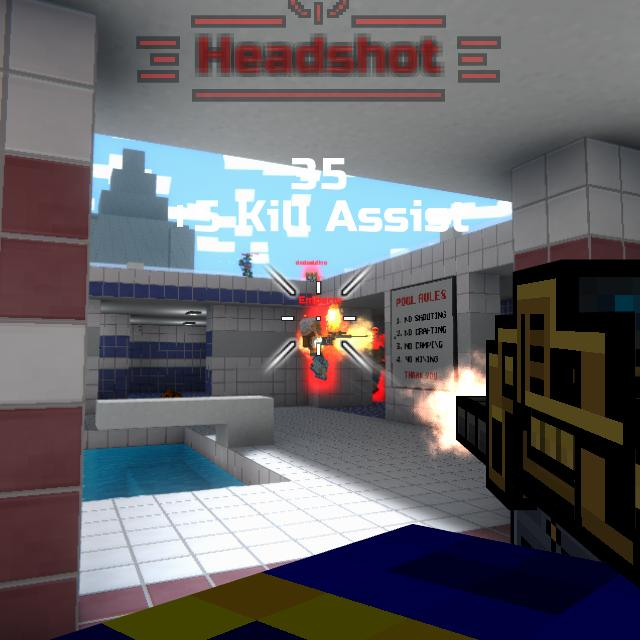Enemy: (300, 316, 332, 381), (304, 270, 320, 283)
